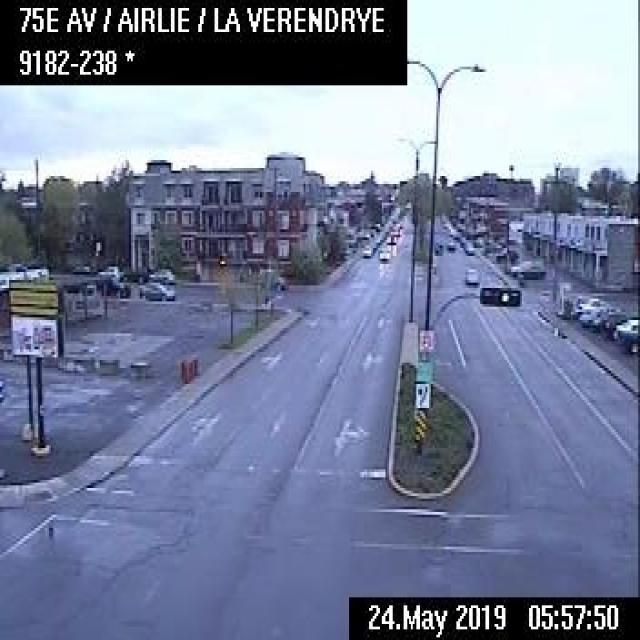vehicle: (614, 316, 637, 352), (600, 310, 629, 338), (136, 278, 174, 298), (509, 256, 544, 277), (578, 303, 608, 326), (102, 273, 131, 296), (570, 293, 601, 312), (146, 266, 174, 281), (96, 262, 121, 277), (494, 246, 516, 261), (270, 270, 286, 290), (464, 266, 478, 283), (377, 244, 389, 262), (444, 237, 456, 251), (385, 231, 397, 243), (360, 243, 369, 258), (464, 242, 474, 253)
